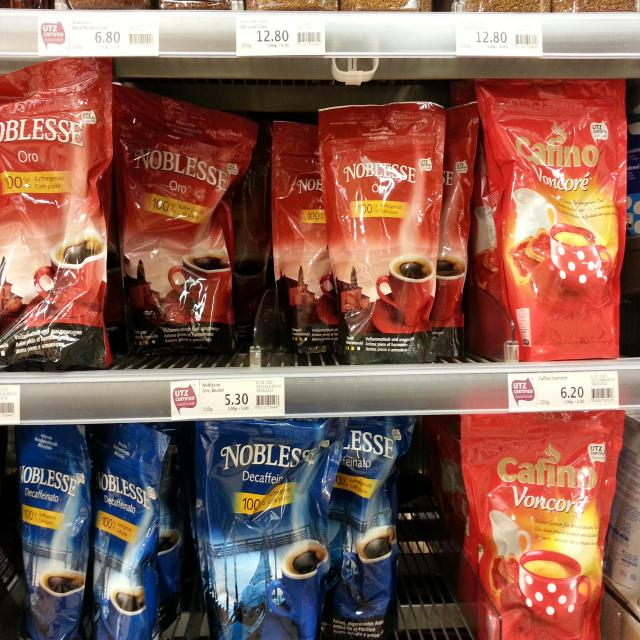Coffee: (109, 84, 257, 368), (477, 82, 618, 361), (462, 413, 622, 640), (0, 61, 110, 368), (197, 418, 344, 640), (316, 108, 442, 362), (92, 419, 168, 640), (18, 422, 88, 640), (344, 416, 408, 639)
